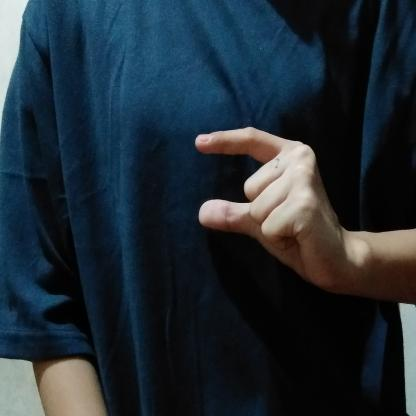small: (180, 117, 364, 299)
